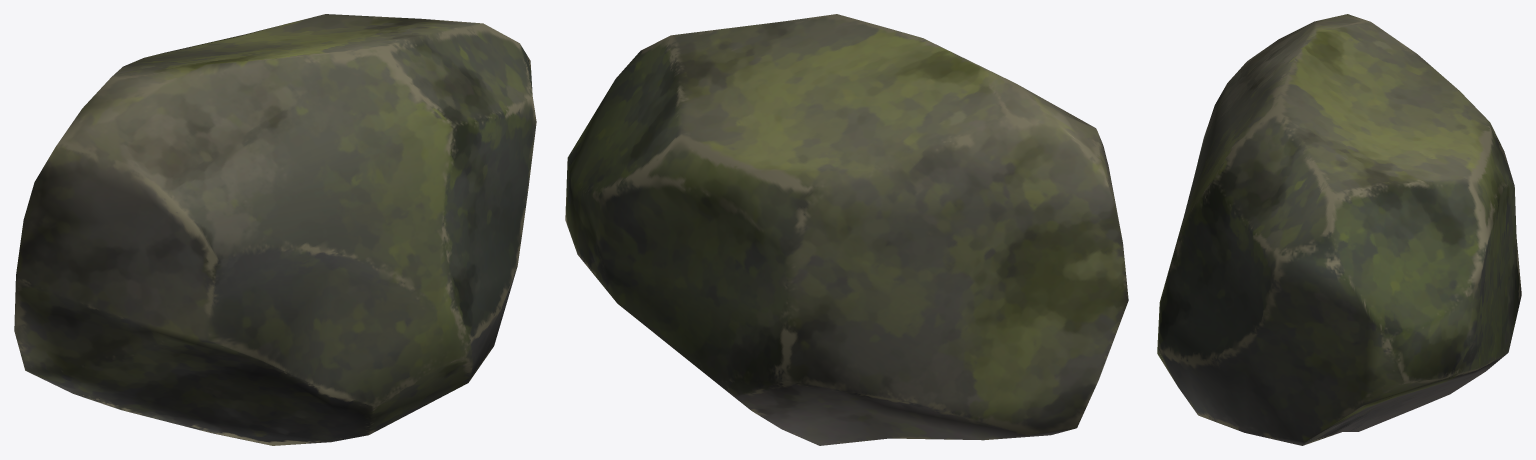
The model's file is SM_Rock_03.fbx.
3 renders of one model, left to right at view 1: azimuth 30°, elevation 25°; view 2: azimuth 150°, elevation 25°; view 3: azimuth 270°, elevation 25°, orthographic. The views are drawn at different scales.
Parts seen in each view (by area): view 1: SM_Rock_03_LOD0; view 2: SM_Rock_03_LOD0; view 3: SM_Rock_03_LOD0.
Part boxes in pixels (box(x1,y1,x2,y2)): SM_Rock_03_LOD0: box(14, 14, 536, 445); SM_Rock_03_LOD0: box(565, 14, 1128, 445); SM_Rock_03_LOD0: box(1157, 14, 1521, 445).
Bounding box in the file's own units: 273 × 176 × 189.
Materials: 1 (1 with a texture image).
